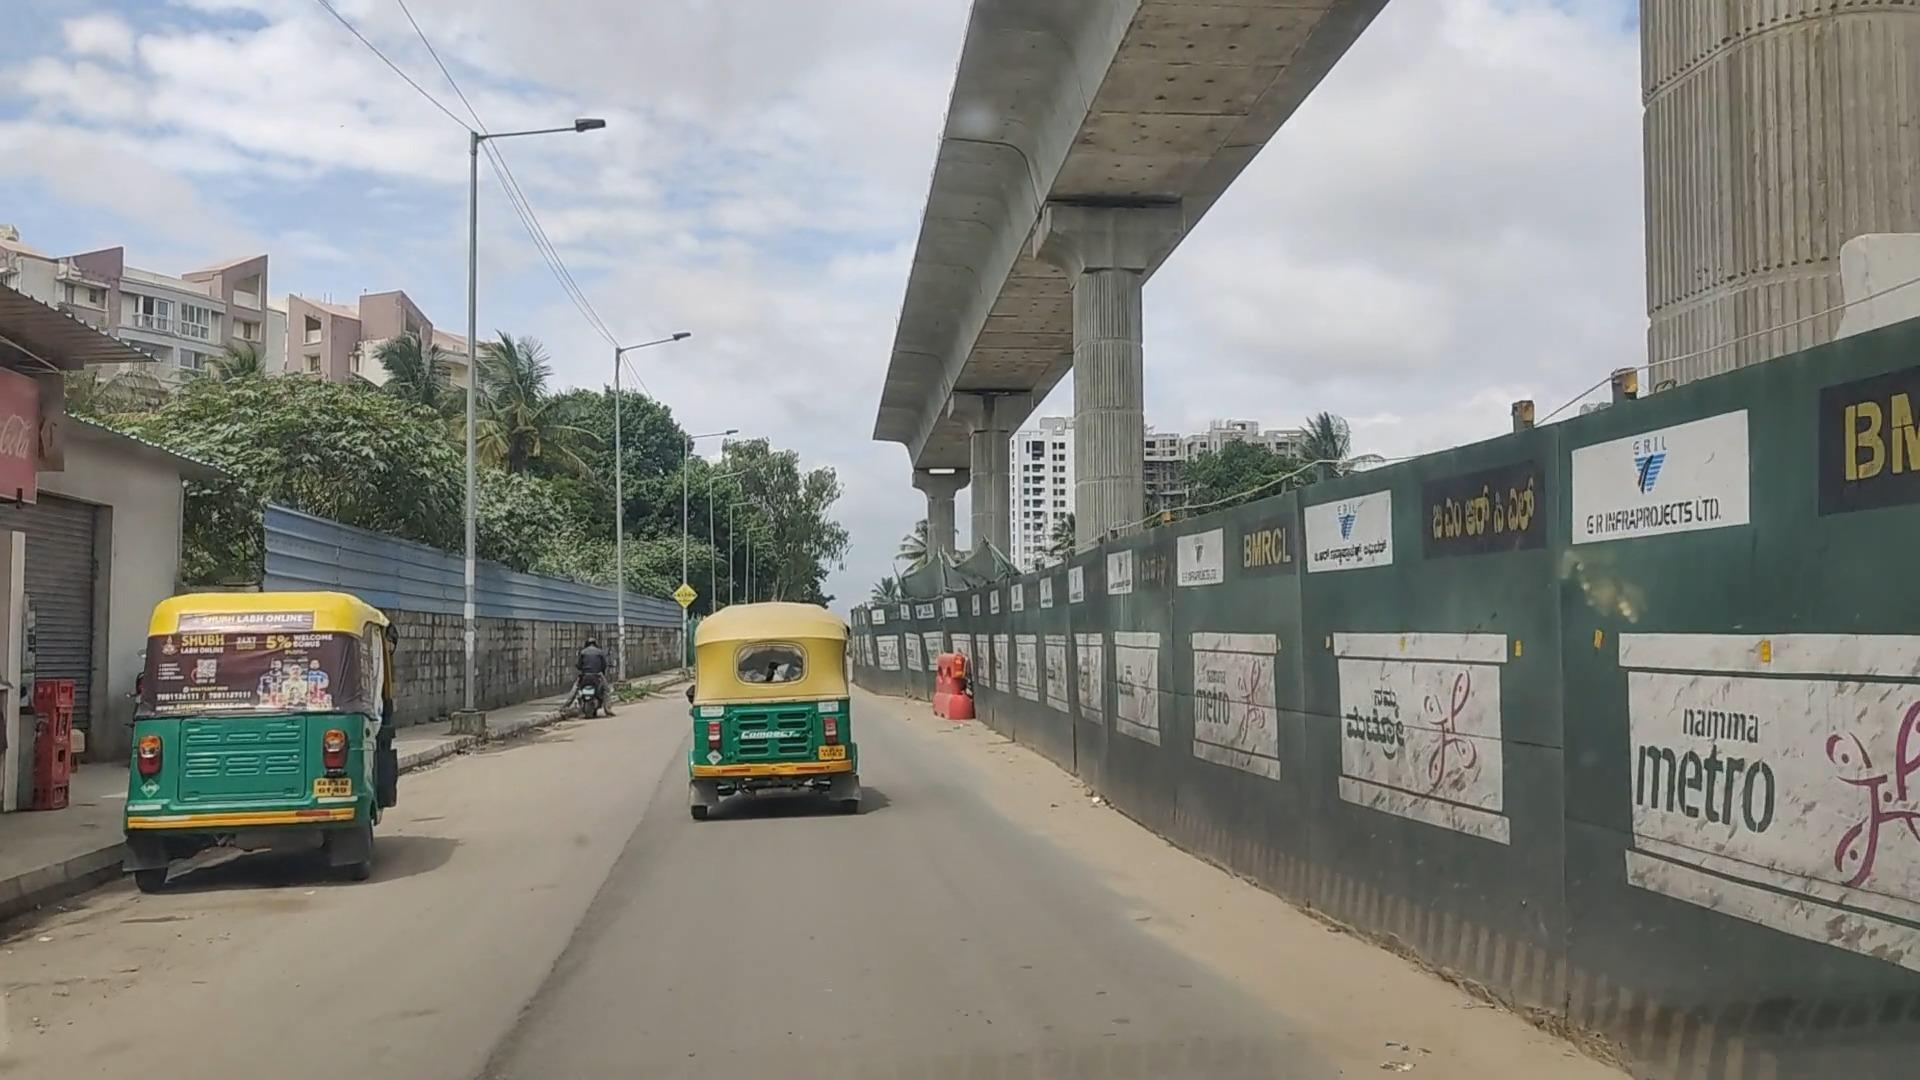LMV: (121, 562, 409, 887), (669, 595, 870, 841)
